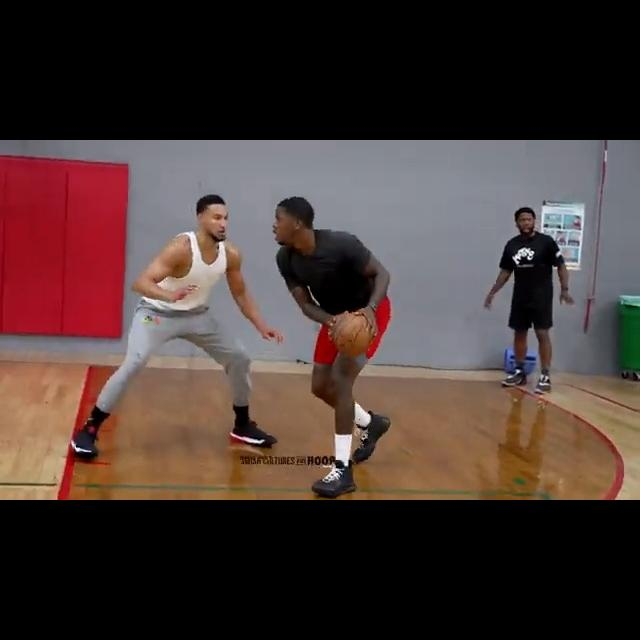basketball: (331, 313, 373, 358)
person: (68, 195, 292, 459), (258, 196, 402, 497), (483, 207, 574, 395)
